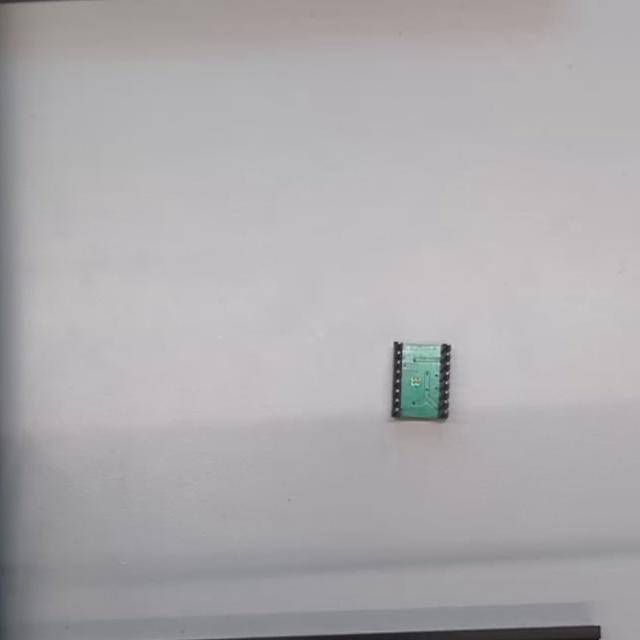Chip: (392, 339, 455, 423)
